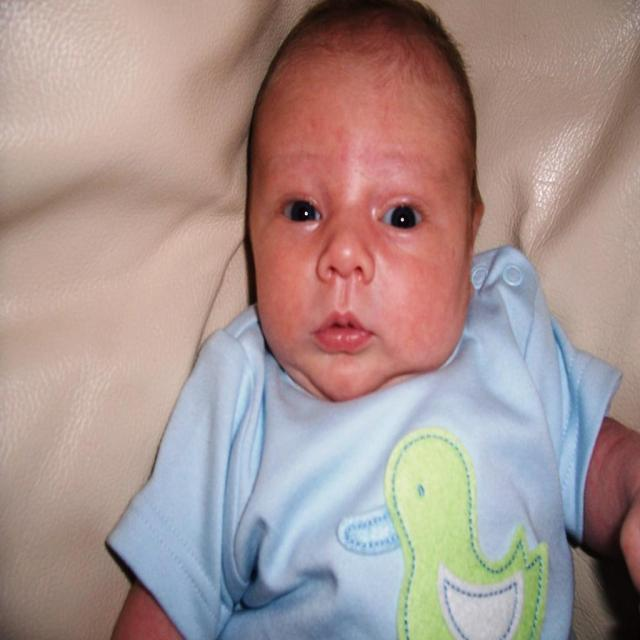Face: (250, 31, 493, 391)
